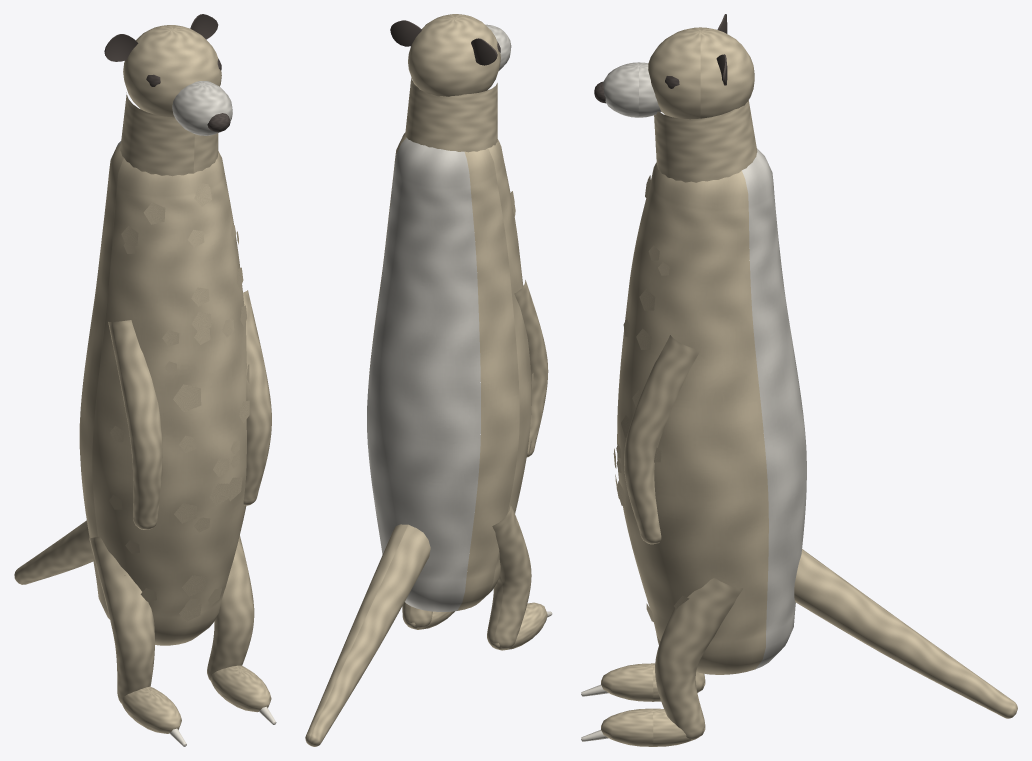
The model's file is other-meerkat.glb.
3 renders of one model, left to right at view 1: azimuth 30°, elevation 25°; view 2: azimuth 150°, elevation 25°; view 3: azimuth 270°, elevation 25°, orthographic. The views are drawn at different scales.
Visible parts, largest first — view 1: meerkat-sentry; view 2: meerkat-sentry; view 3: meerkat-sentry.
Part boxes in pixels (left/top/right/bottom): meerkat-sentry: left=14, top=14, right=276, bottom=746; meerkat-sentry: left=305, top=14, right=552, bottom=746; meerkat-sentry: left=581, top=14, right=1017, bottom=746.
Bounding box in the file's own units: 0.1502 × 0.642 × 0.3682.
5 materials, 3 textured.
